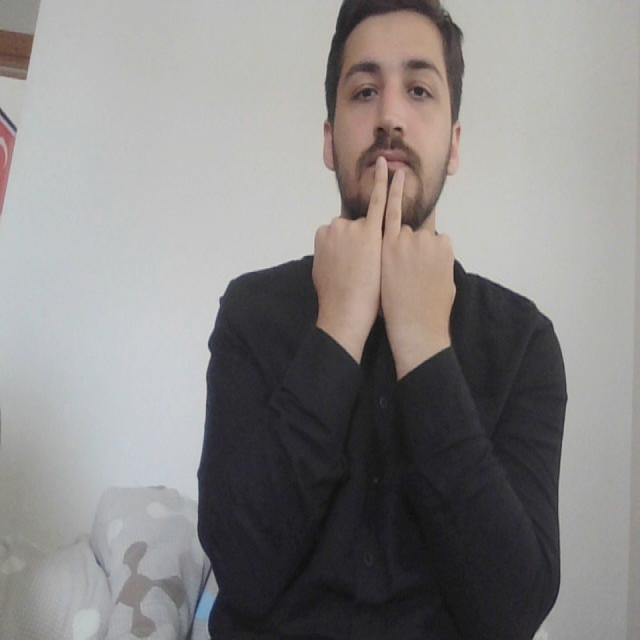Kardes: (309, 148, 465, 356)
